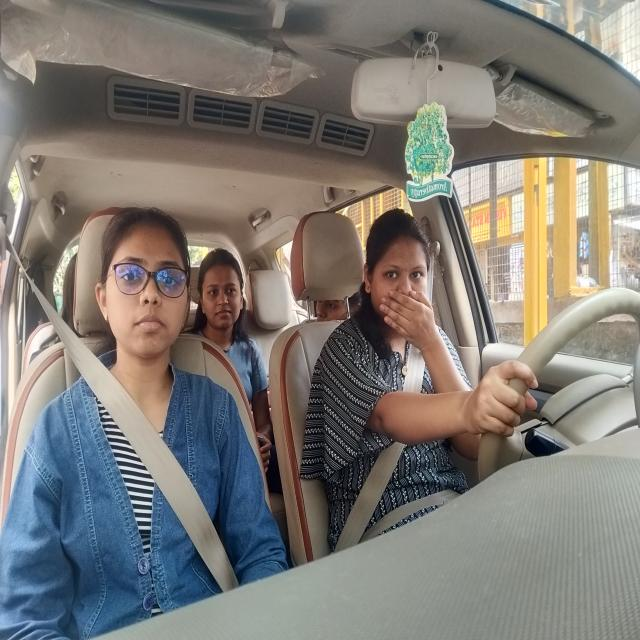person: (97, 212, 196, 388), (356, 207, 434, 365), (198, 236, 250, 356), (316, 297, 348, 321)
